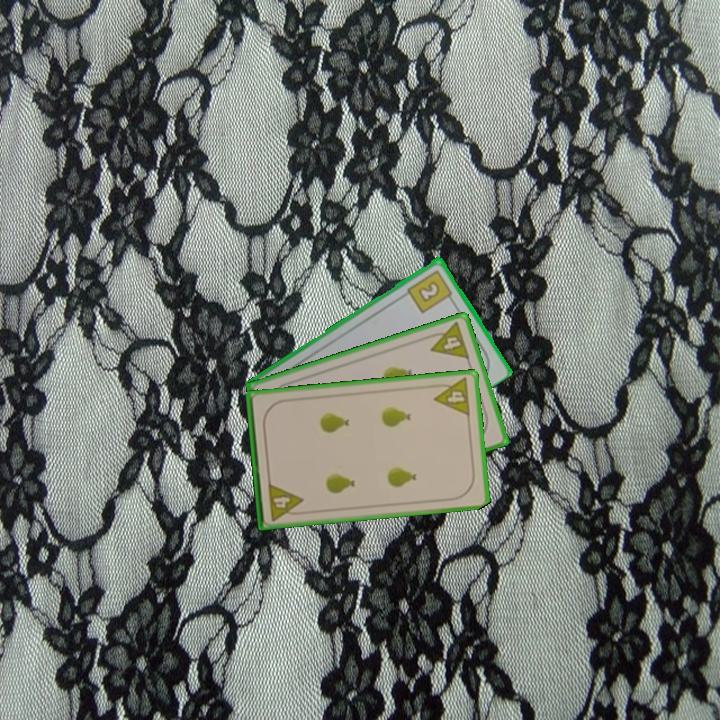2b: (404, 266, 457, 316)
4p: (423, 318, 472, 362), (430, 374, 473, 419), (264, 479, 306, 523)
